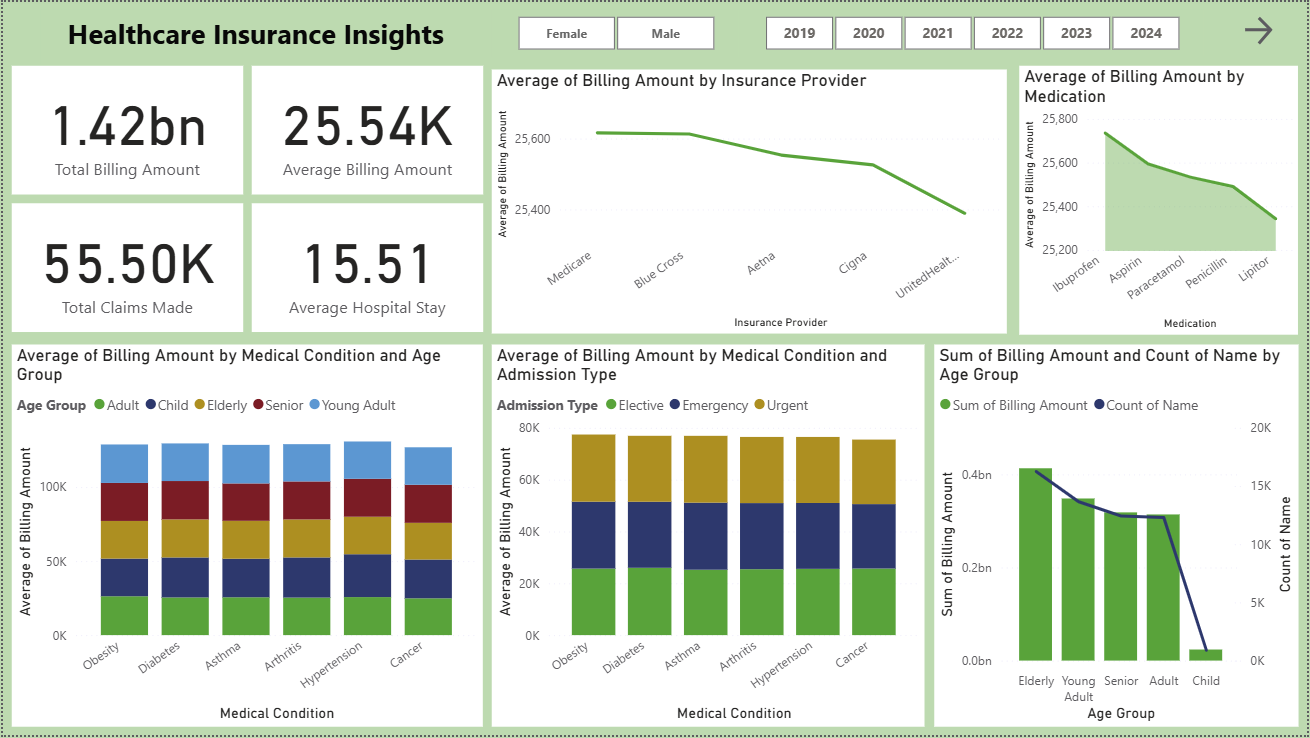

The dashboard page shown, as its layout file describes it:
{"tool":"powerbi","page":{"name":"Page 1","canvas":[1280,720],"ordinal":0},"visuals":[{"type":"textbox","box":[36.6,7,422.5,53.5],"z":0},{"type":"card","fields":{"Values":["CountNonNull(Healthcare_data_processed.Name)"]},"box":[8.8,197.5,227.5,126.2],"z":1000},{"type":"card","fields":{"Values":["Avg(Healthcare_data_processed.Billing Amount)"]},"box":[243.8,62.5,227.5,126.2],"z":2000},{"type":"card","fields":{"Values":["Avg(Healthcare_data_processed.Length_of_stay)"]},"box":[243.8,197.5,227.5,126.2],"z":3000},{"type":"columnChart","fields":{"Category":["Healthcare_data_processed.Medical Condition"],"Y":["Avg(Healthcare_data_processed.Billing Amount)"],"Series":["Healthcare_data_processed.Age_Group"]},"box":[8.8,336.2,462.5,375],"z":4000},{"type":"columnChart","fields":{"Y":["Avg(Healthcare_data_processed.Billing Amount)"],"Category":["Healthcare_data_processed.Medical Condition"],"Series":["Healthcare_data_processed.Admission Type"]},"box":[480,336.2,425,375],"z":5000},{"type":"card","fields":{"Values":["Sum(Healthcare_data_processed.Billing Amount)"]},"box":[8.8,62.5,227.5,126.2],"z":6000},{"type":"areaChart","fields":{"Category":["Healthcare_data_processed.Medication"],"Y":["Avg(Healthcare_data_processed.Billing Amount)"]},"box":[997.6,62.6,273.6,263.8],"z":7000},{"type":"lineStackedColumnComboChart","fields":{"Y":["Sum(Healthcare_data_processed.Billing Amount)"],"Category":["Healthcare_data_processed.Age_Group"],"Y2":["CountNonNull(Healthcare_data_processed.Name)"]},"box":[913.8,336.2,357.5,375],"z":8000},{"type":"lineChart","fields":{"Category":["Healthcare_data_processed.Insurance Provider"],"Y":["Avg(Healthcare_data_processed.Billing Amount)"]},"box":[480.3,66.2,505.6,259.2],"z":9000},{"type":"slicer","fields":{"Values":["Healthcare_data_processed.Gender"]},"box":[480.3,7,242.3,46.5],"z":10000},{"type":"slicer","fields":{"Values":["Healthcare_data_processed.Admit Year"]},"box":[722.5,7,456.3,46.5],"z":11000},{"type":"actionButton","box":[1214.1,9.9,46.5,36.6],"z":12000}]}

Visuals, with their boxes in screenshot pixels (x1, y1, x2, y2), scaled from the page's 1280x720 canvas onto the 1310x738 screenshot:
textbox: (37,7,470,62)
card - CountNonNull(Healthcare_data_processed.Name): (9,202,242,332)
card - Avg(Healthcare_data_processed.Billing Amount): (250,64,482,193)
card - Avg(Healthcare_data_processed.Length_of_stay): (250,202,482,332)
columnChart - Healthcare_data_processed.Medical Condition x Avg(Healthcare_data_processed.Billing Amount): (9,345,482,729)
columnChart - Avg(Healthcare_data_processed.Billing Amount) x Healthcare_data_processed.Medical Condition: (491,345,926,729)
card - Sum(Healthcare_data_processed.Billing Amount): (9,64,242,193)
areaChart - Healthcare_data_processed.Medication x Avg(Healthcare_data_processed.Billing Amount): (1021,64,1301,335)
lineStackedColumnComboChart - Sum(Healthcare_data_processed.Billing Amount) x Healthcare_data_processed.Age_Group: (935,345,1301,729)
lineChart - Healthcare_data_processed.Insurance Provider x Avg(Healthcare_data_processed.Billing Amount): (492,68,1009,334)
slicer - Healthcare_data_processed.Gender: (492,7,740,55)
slicer - Healthcare_data_processed.Admit Year: (739,7,1206,55)
actionButton: (1243,10,1290,48)
